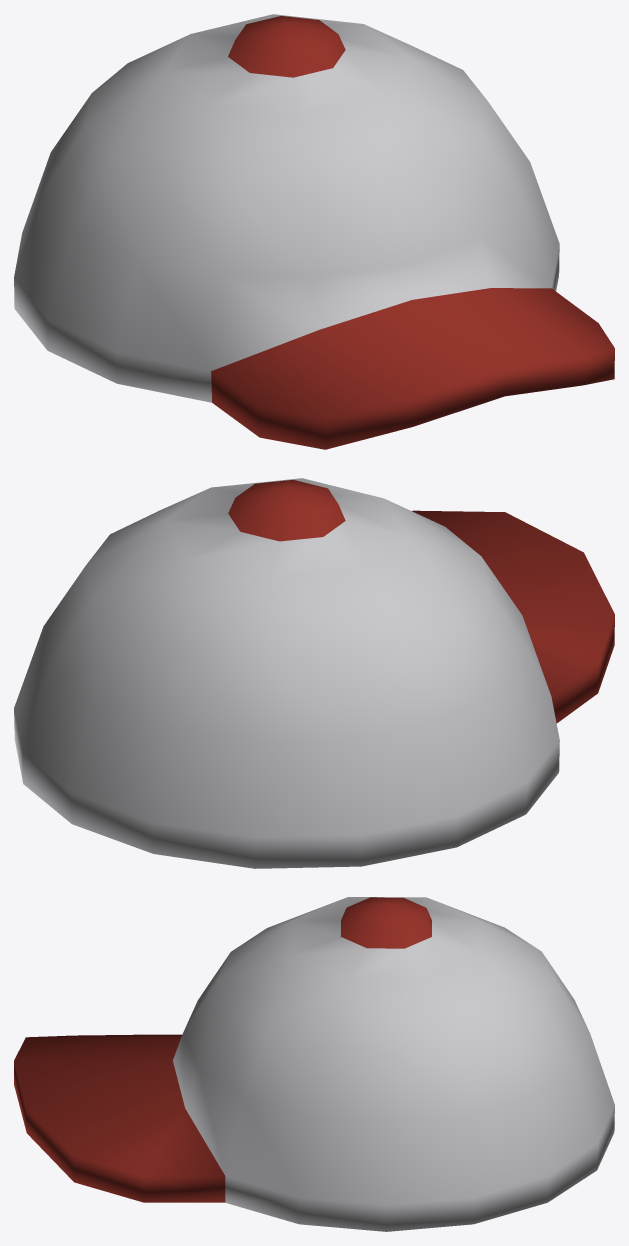
File: baseballcap.glb
3 views of the same model, one above another, from view 1: azimuth 30°, elevation 25°; view 2: azimuth 150°, elevation 25°; view 3: azimuth 270°, elevation 25° (orthographic). The views are drawn at different scales.
Parts seen in each view (by area): view 1: JA_m_Hat53; view 2: JA_m_Hat53; view 3: JA_m_Hat53.
Part boxes in pixels (x1,y1,x2,y2): JA_m_Hat53: [14, 14, 614, 449]; JA_m_Hat53: [14, 478, 614, 868]; JA_m_Hat53: [14, 897, 614, 1231].
Bounding box in the file's own units: 1.21 × 0.6456 × 1.54.
